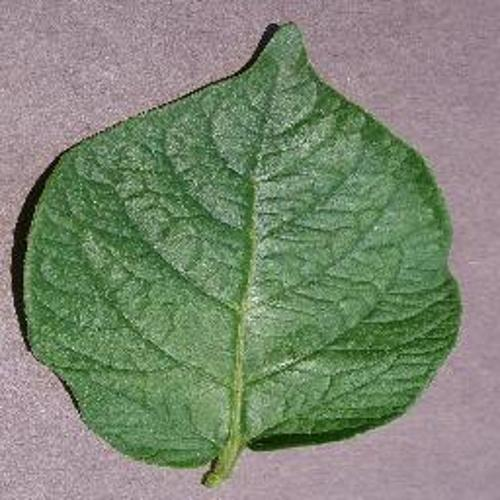Potato: (25, 26, 461, 486)
